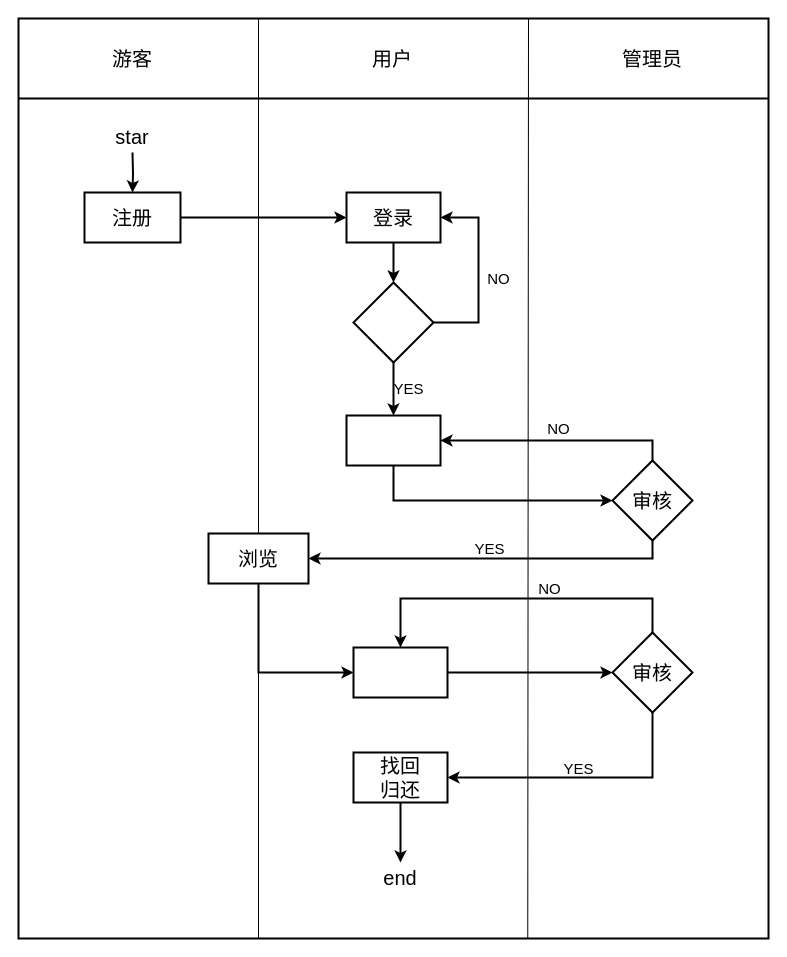
The diagram is 787 pixels wide and 957 high, and some of its shapes have lost their labels. Each missing label, with the centre of its shape:
发布帖子: pixel 393 440
校验: pixel 393 322
评论: pixel 400 672
